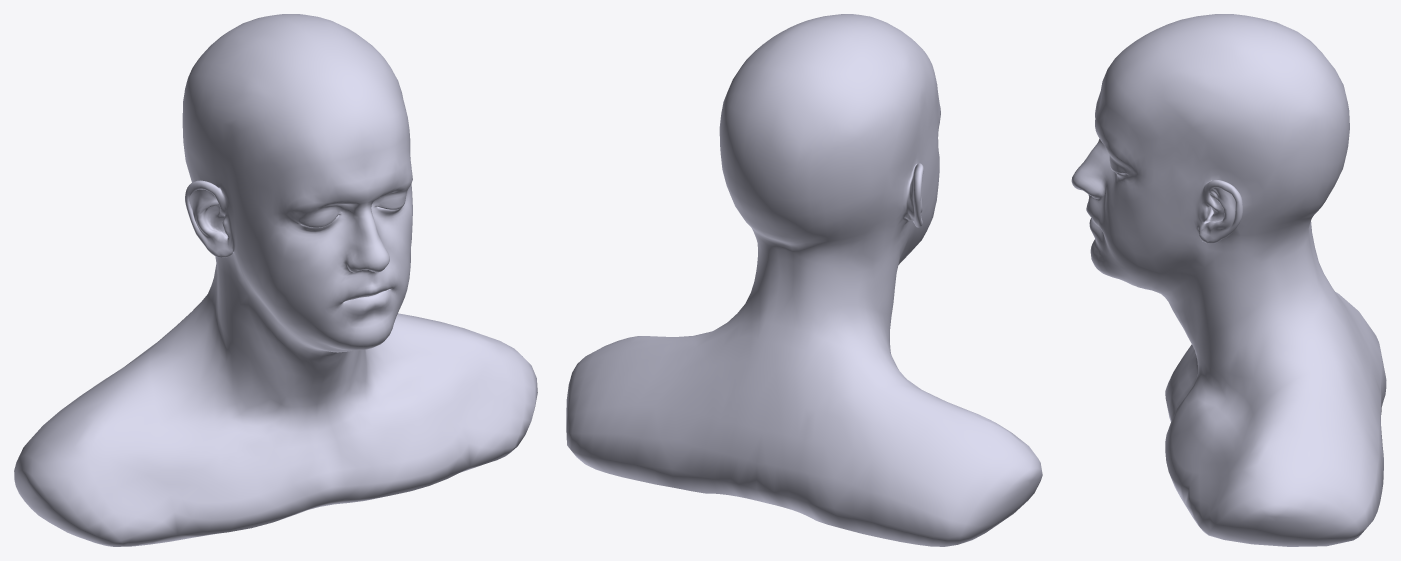
The model's file is mannequin-head.glb.
3 renders of one model, left to right at view 1: azimuth 30°, elevation 25°; view 2: azimuth 150°, elevation 25°; view 3: azimuth 270°, elevation 25°, orthographic. The views are drawn at different scales.
Visible parts, largest first — view 1: LeePerrySmith; view 2: LeePerrySmith; view 3: LeePerrySmith.
Boxes of the visible parts, x1=… form: LeePerrySmith: x1=14, y1=14, x2=537, y2=546; LeePerrySmith: x1=566, y1=14, x2=1042, y2=546; LeePerrySmith: x1=1071, y1=14, x2=1386, y2=546.
Bounding box in the file's own units: 8.55 × 7.94 × 5.17.
